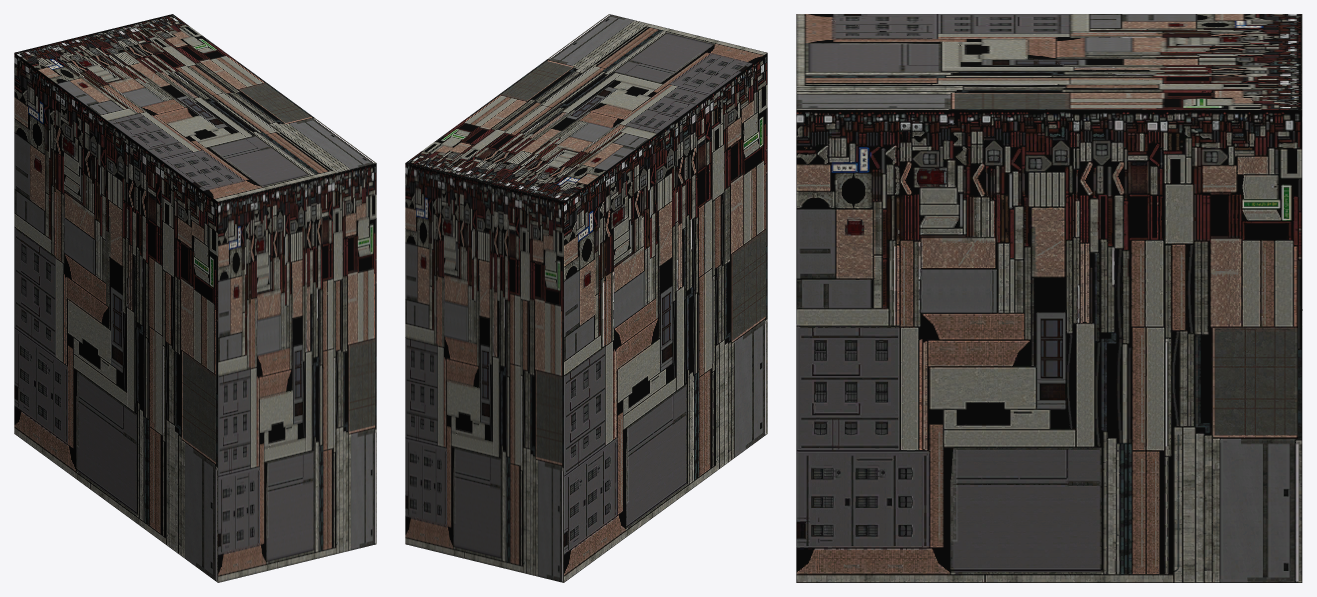
File: Building_006.DAE
3 renders of one model, left to right at view 1: azimuth 30°, elevation 25°; view 2: azimuth 150°, elevation 25°; view 3: azimuth 270°, elevation 25°, orthographic. The views are drawn at different scales.
Parts seen in each view (by area): view 1: bounds; view 2: bounds; view 3: bounds.
Part boxes in pixels (bbox=[...]): bounds: bbox=[14, 14, 376, 582]; bounds: bbox=[405, 14, 767, 582]; bounds: bbox=[796, 14, 1302, 582].
Size of the model in its own units: 1026 by 2284 by 2353.
